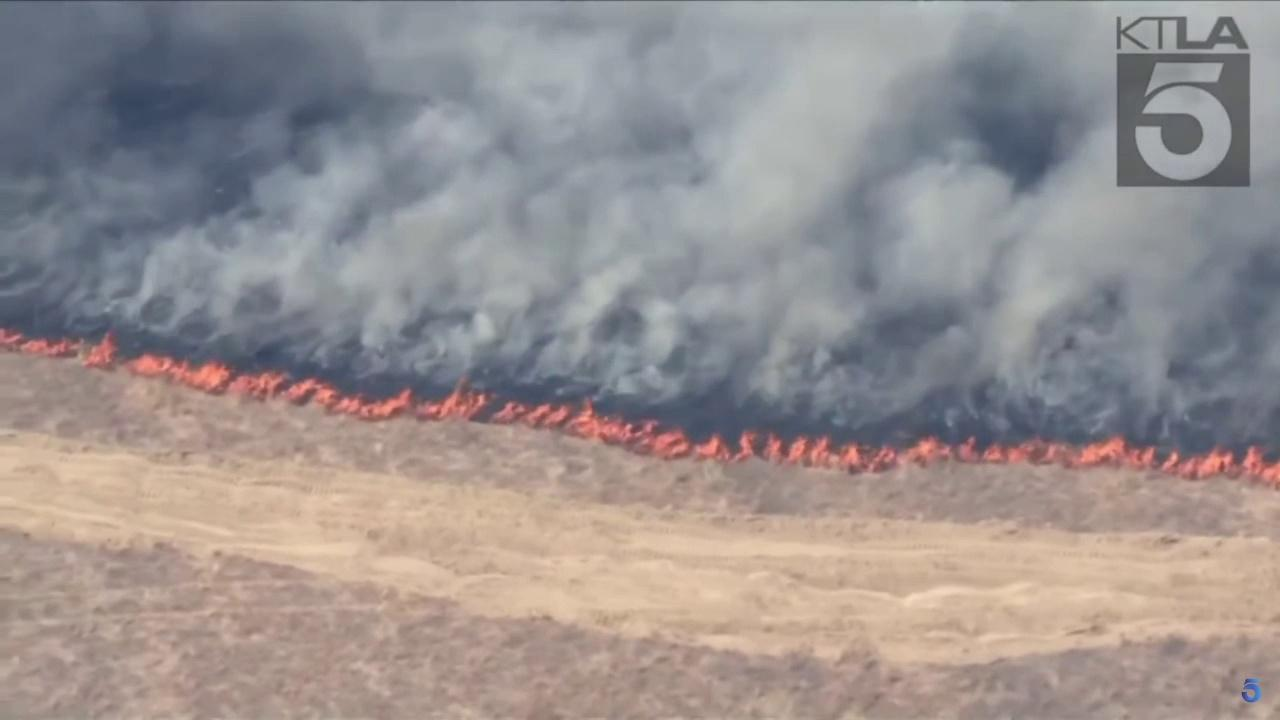fire: (488, 398, 1280, 495), (0, 324, 485, 419)
smoke: (0, 0, 1280, 440)
